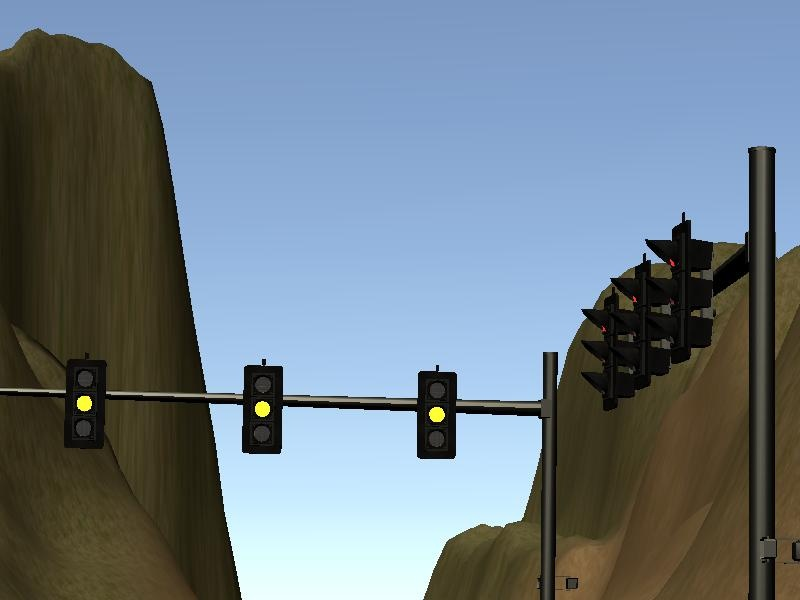YELLOW: (63, 356, 106, 451), (239, 361, 282, 456), (414, 365, 457, 460)
